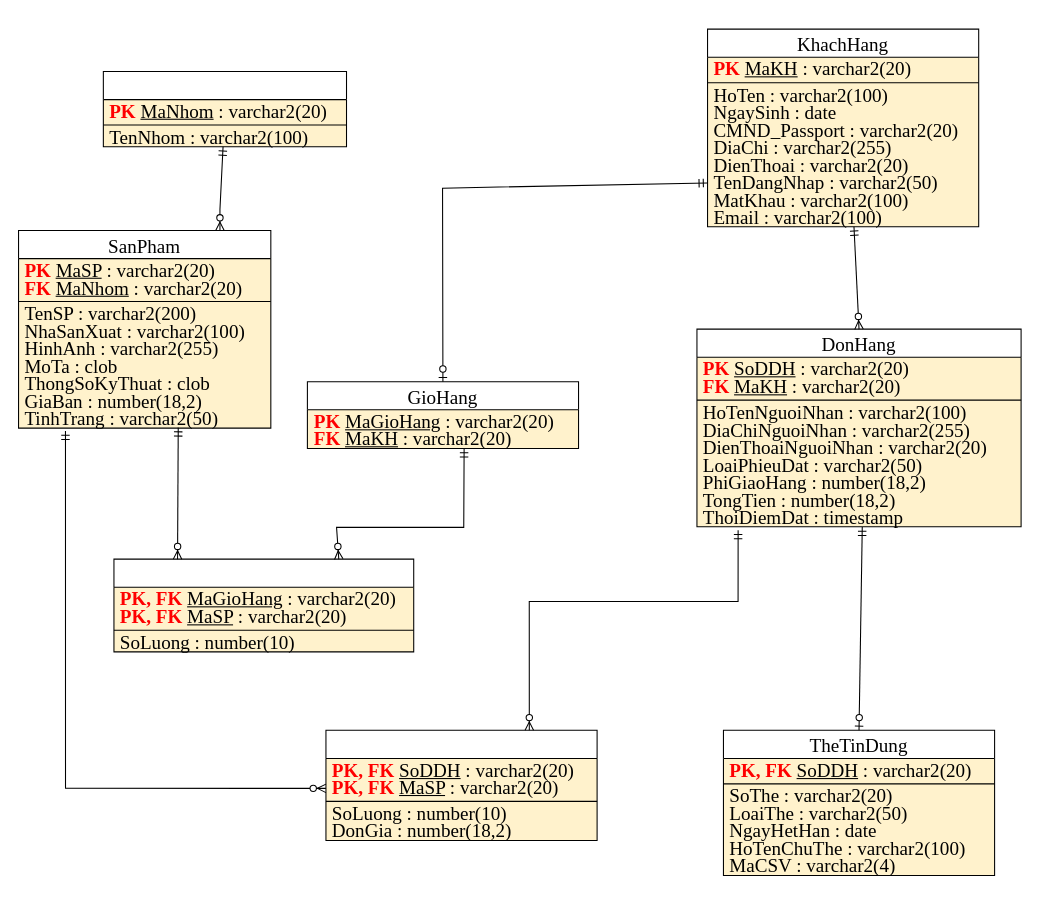
Image size: 1040x897. Some labels were removed from this diagram. The shapes that lost their labels are listed below. From the top down, each one's box as (x1, y1, x2, y2) in pixels, then its label:
(102, 70, 347, 147): NhomSanPham
(113, 558, 414, 652): ChiTietGioHang
(325, 729, 597, 841): ChiTietDonHang
